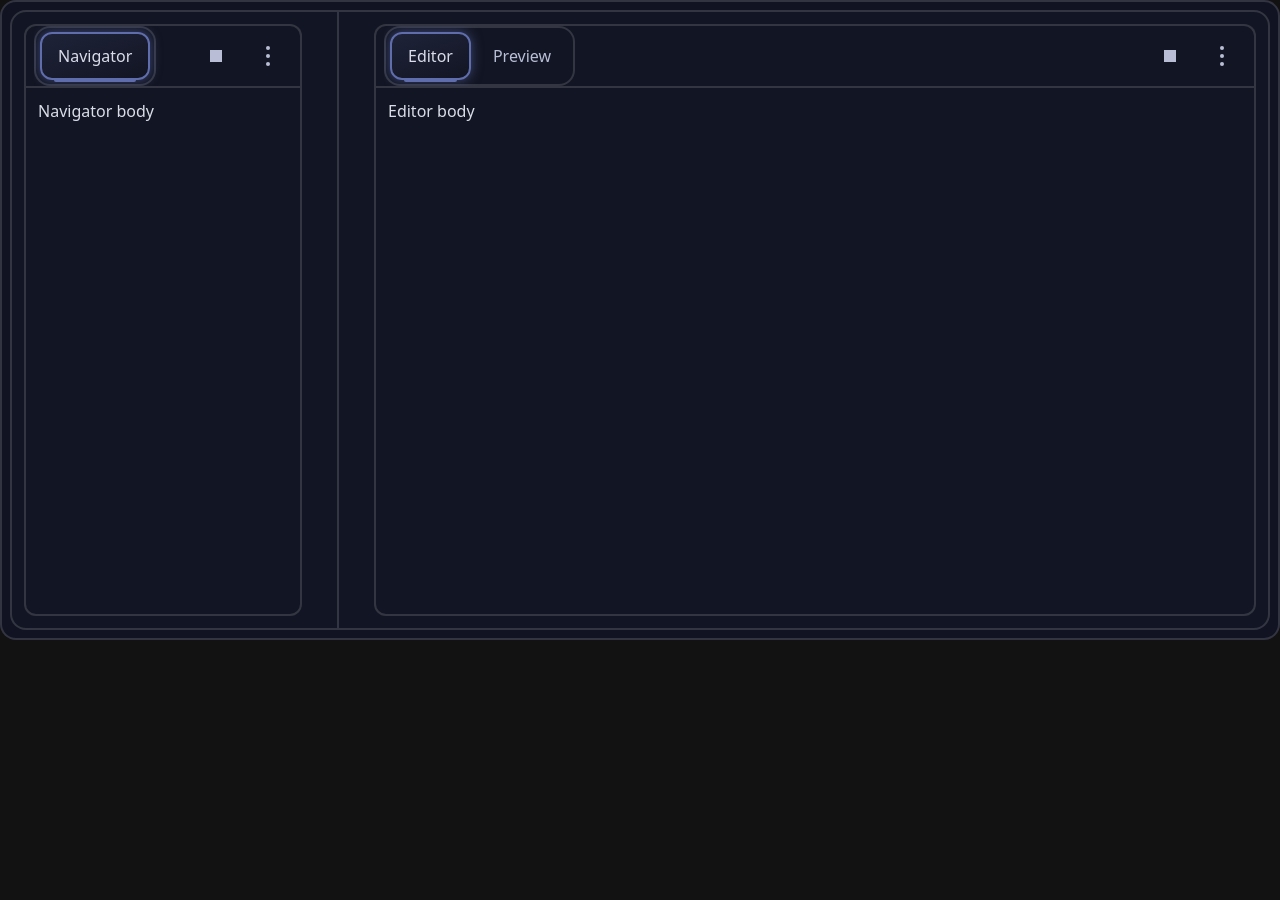
Test: DockLayout › switches tabs through the controlled layout
Click the tab "Preview" at (522, 56), box [475,32,569,80]
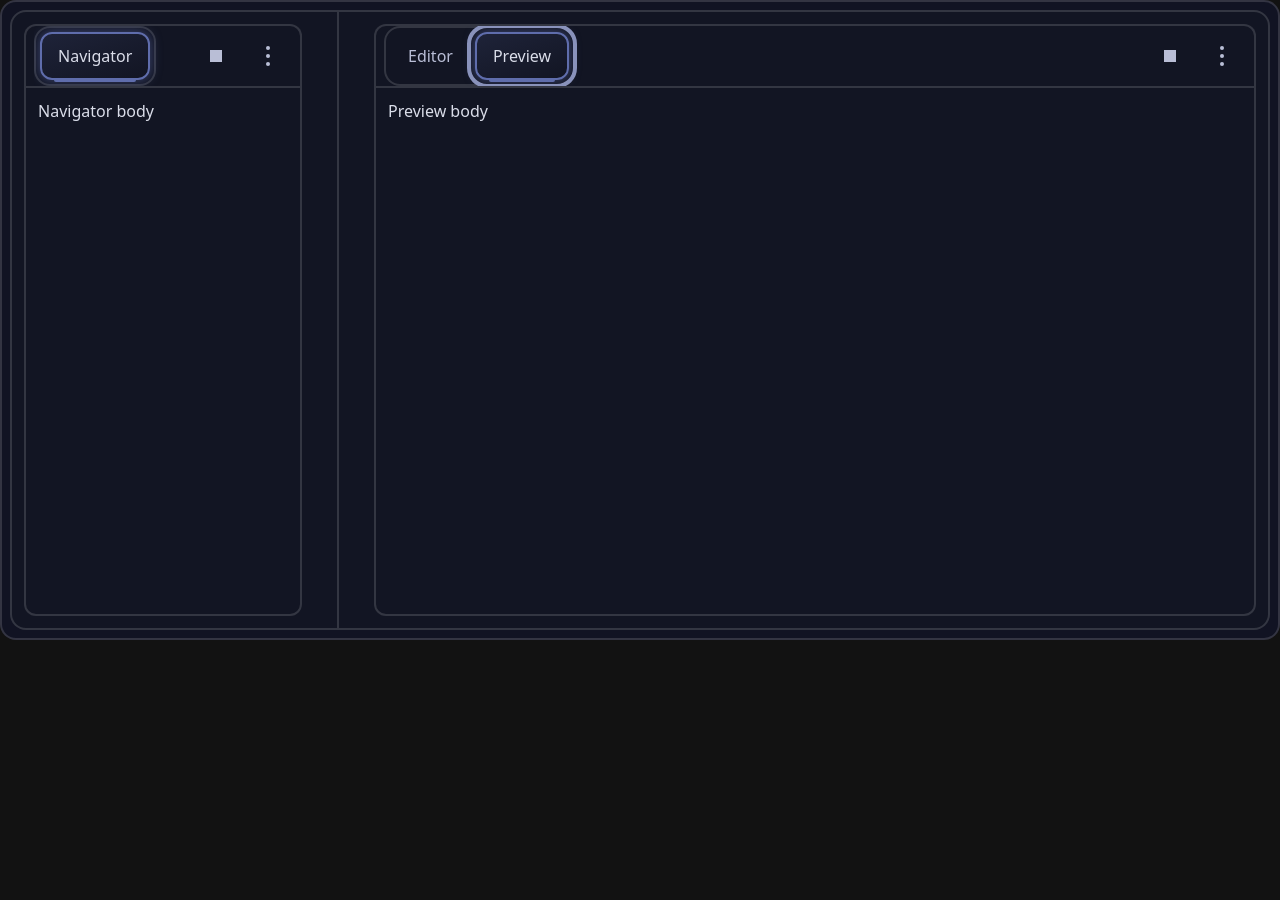
Expected: the text "Preview body" is shown, [388,100,488,122]
Expected: the text "Editor body" is gone
